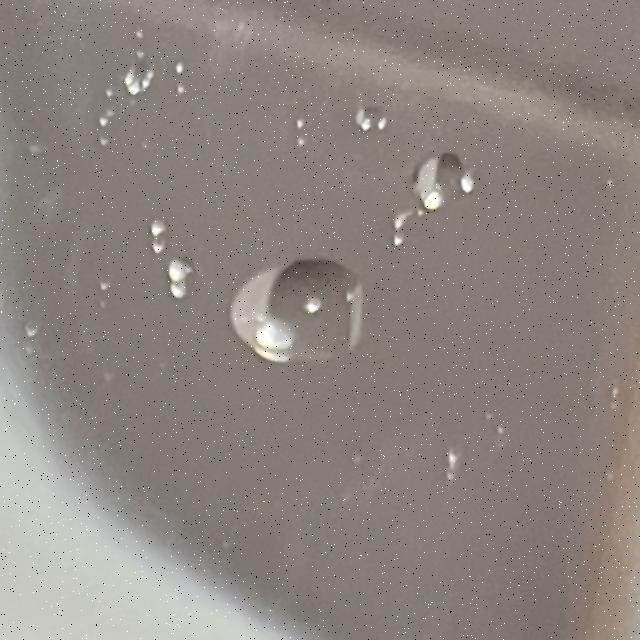raindrop: (215, 242, 383, 388), (393, 143, 491, 210), (374, 190, 450, 260), (150, 237, 218, 306), (256, 104, 329, 162), (131, 205, 200, 264), (326, 87, 404, 126), (105, 70, 165, 111)
